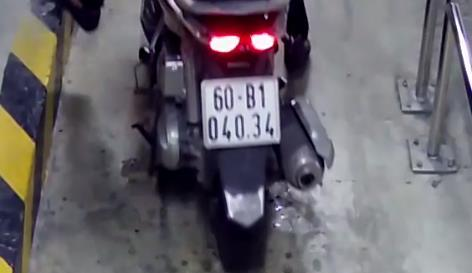lisence: (200, 76, 281, 149)
